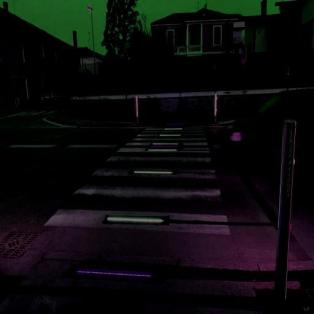Paso de Cebra: (41, 182, 242, 236), (104, 146, 218, 164), (129, 132, 210, 142)
